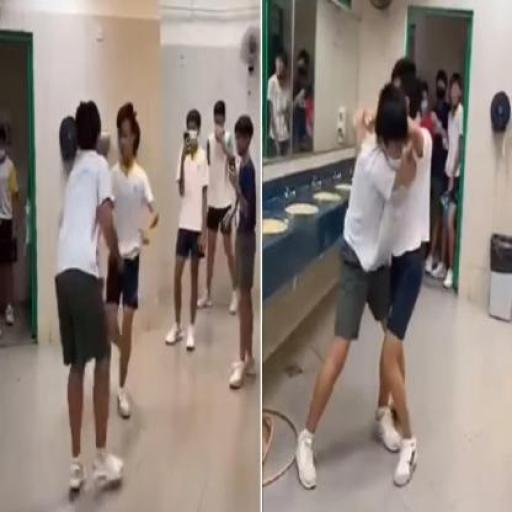Fighting: (298, 53, 430, 492), (58, 96, 154, 501)
